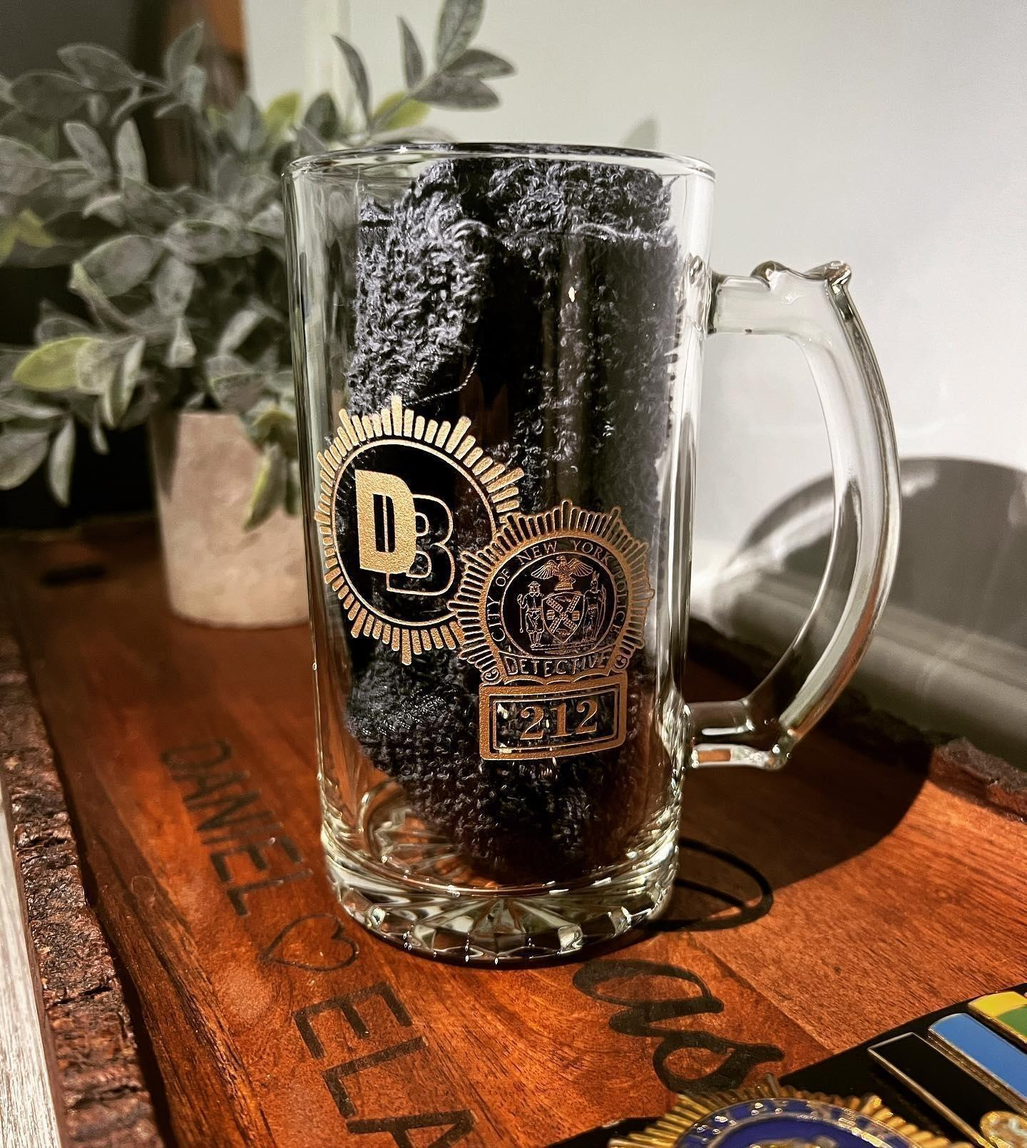glass-mug: (265, 125, 906, 985)
